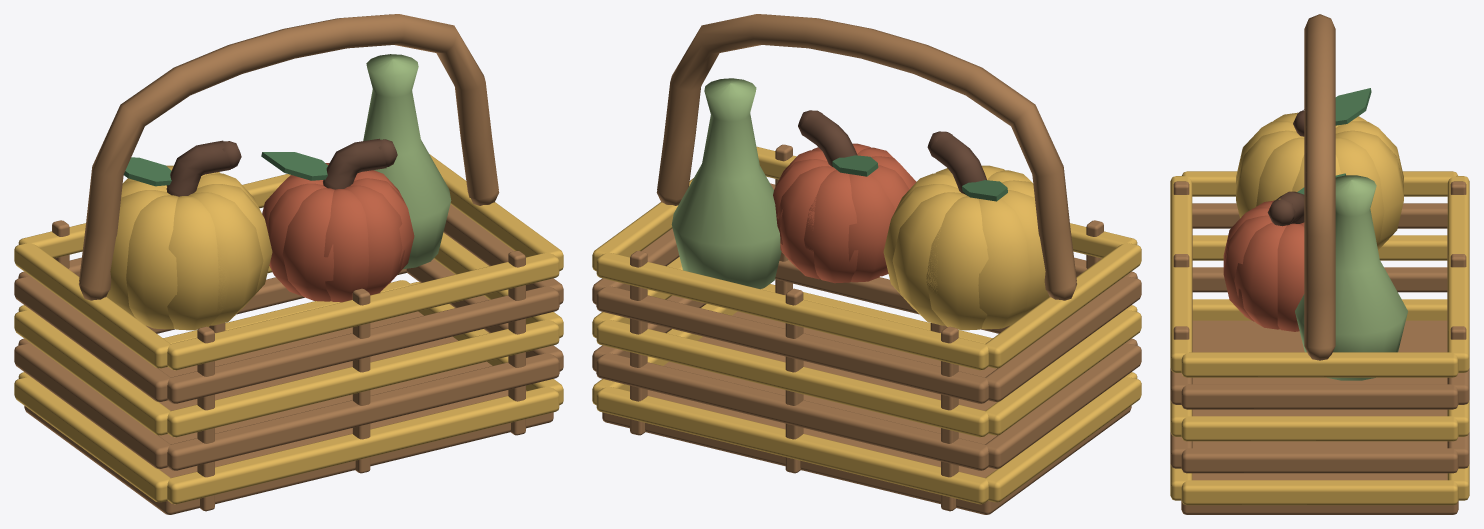
The model's file is almanac-gardens-gourd-basket-14ba07e1__22079.glb.
3 views of the same model, side by side, from view 1: azimuth 30°, elevation 25°; view 2: azimuth 150°, elevation 25°; view 3: azimuth 270°, elevation 25° (orthographic). The views are drawn at different scales.
Visible parts, largest first — view 1: gourd-basket-gold, gourd-basket-oak, gourd-basket-clay, gourd-basket-sage, gourd-basket-bark, gourd-basket-leaf; view 2: gourd-basket-gold, gourd-basket-oak, gourd-basket-sage, gourd-basket-clay, gourd-basket-bark, gourd-basket-leaf; view 3: gourd-basket-oak, gourd-basket-gold, gourd-basket-sage, gourd-basket-clay, gourd-basket-bark, gourd-basket-leaf.
Part boxes in pixels (<box>): gourd-basket-gold: <box>14,154,563,504</box>; gourd-basket-oak: <box>14,14,563,514</box>; gourd-basket-clay: <box>262,163,414,302</box>; gourd-basket-sage: <box>363,54,451,268</box>; gourd-basket-bark: <box>166,138,397,196</box>; gourd-basket-leaf: <box>123,152,327,186</box>; gourd-basket-gold: <box>592,146,1141,504</box>; gourd-basket-oak: <box>592,14,1141,514</box>; gourd-basket-sage: <box>671,78,781,289</box>; gourd-basket-clay: <box>773,143,916,283</box>; gourd-basket-bark: <box>798,110,986,195</box>; gourd-basket-leaf: <box>832,155,1007,201</box>; gourd-basket-oak: <box>1170,14,1469,514</box>; gourd-basket-gold: <box>1170,112,1469,505</box>; gourd-basket-sage: <box>1295,175,1407,380</box>; gourd-basket-clay: <box>1223,200,1304,331</box>; gourd-basket-bark: <box>1267,109,1304,226</box>; gourd-basket-leaf: <box>1297,88,1371,194</box>.
Size of the model in its own units: 0.73 by 0.65 by 0.475.
